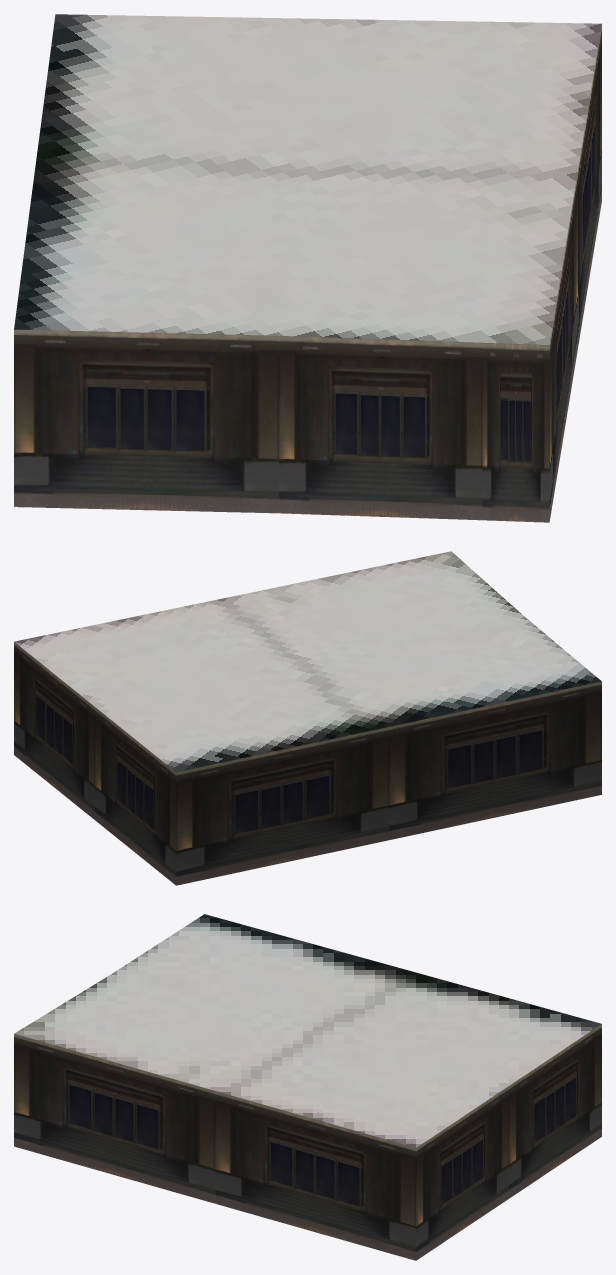
File: T_1T2N94PHNR.dae
The picture shows the model from 3 angles, top to bottom: view 1: azimuth 30°, elevation 25°; view 2: azimuth 150°, elevation 25°; view 3: azimuth 270°, elevation 25°; orthographic projection. The views are drawn at different scales.
Parts seen in each view (by area): view 1: SketchUp (×5); view 2: SketchUp (×3); view 3: SketchUp (×3).
Part boxes in pixels (bbox=[...]): SketchUp (×5): bbox=[14, 14, 601, 522]; SketchUp (×3): bbox=[14, 551, 601, 885]; SketchUp (×3): bbox=[14, 914, 601, 1260].
Bounding box in the file's own units: 13.52 × 14.35 × 3.04.
Materials: 2 (2 with a texture image).
